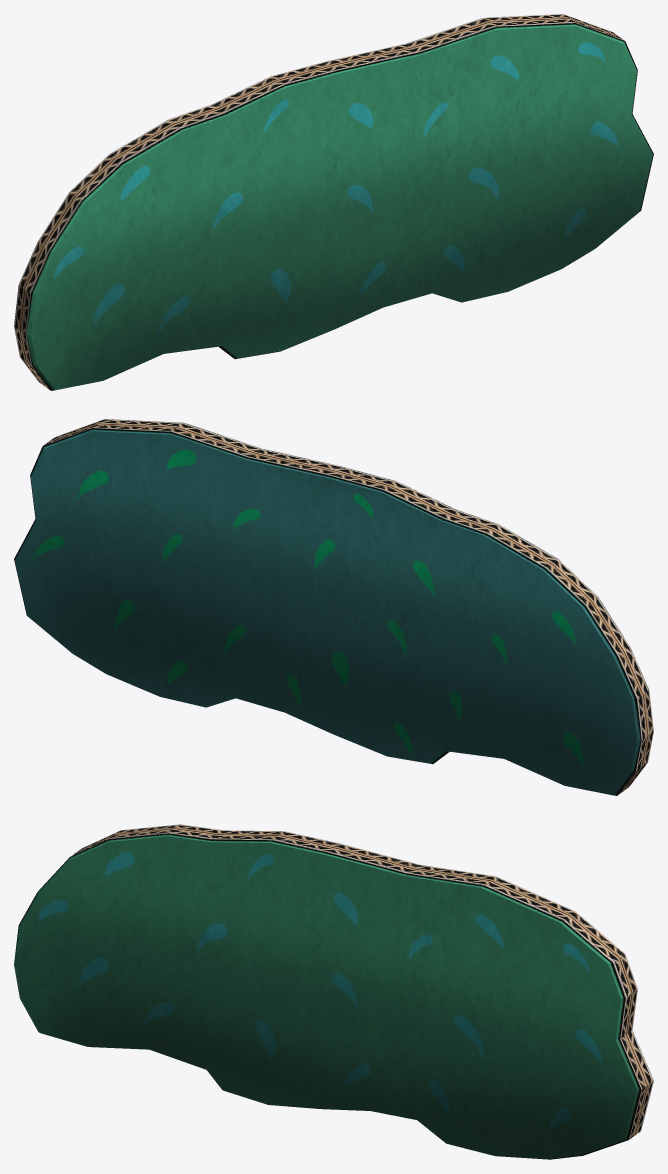
File: Arbre Feuille.fbx
3 renders of one model, top to bottom at view 1: azimuth 30°, elevation 25°; view 2: azimuth 150°, elevation 25°; view 3: azimuth 330°, elevation 25°, orthographic.
Parts seen in each view (by area): view 1: cime.004; view 2: cime.004; view 3: cime.004.
Boxes of the visible parts, bbox=[...] form: cime.004: bbox=[14, 14, 653, 390]; cime.004: bbox=[14, 419, 653, 795]; cime.004: bbox=[14, 824, 653, 1159].
Size of the model in its own units: 1261 by 53.53 by 523.
